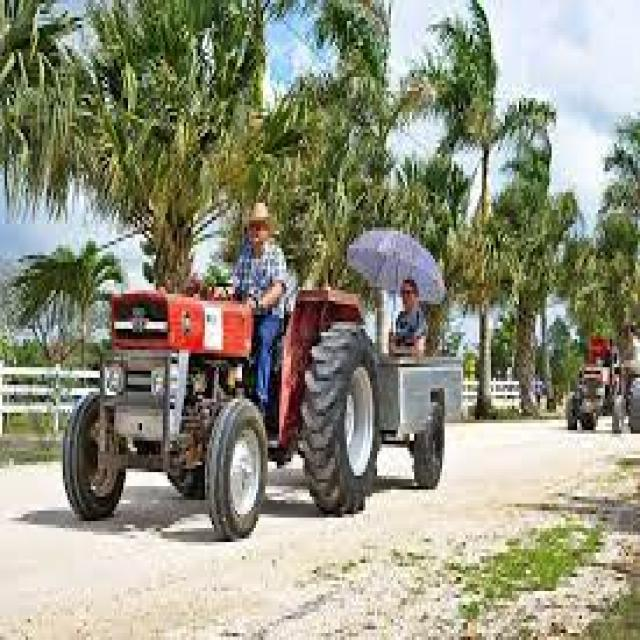person: (233, 203, 286, 413), (396, 280, 424, 353), (621, 336, 638, 395)
tractor: (63, 290, 458, 539), (568, 336, 638, 434)
